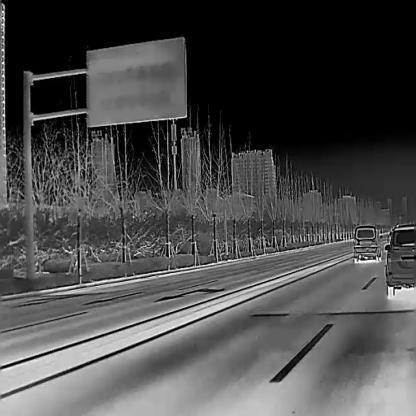car: (383, 222, 415, 297), (353, 224, 382, 262)
